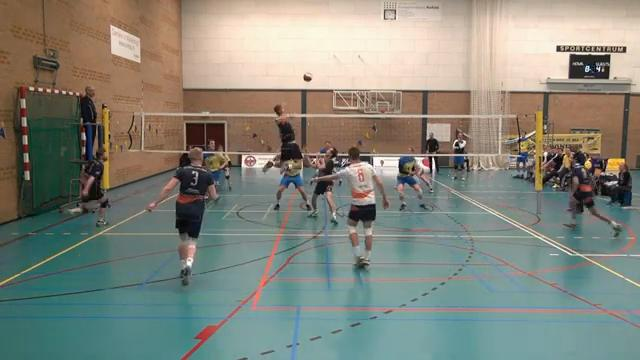attacco: (256, 100, 306, 174)
